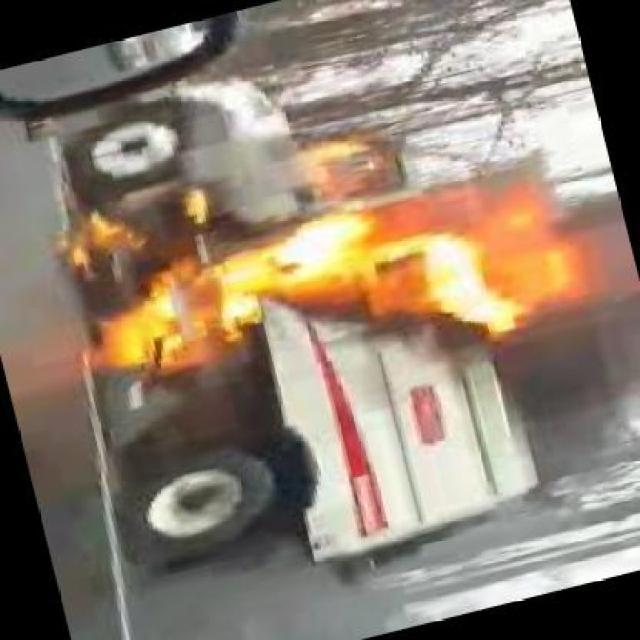Fire: (89, 204, 568, 380)
Smoke: (530, 325, 633, 463)
